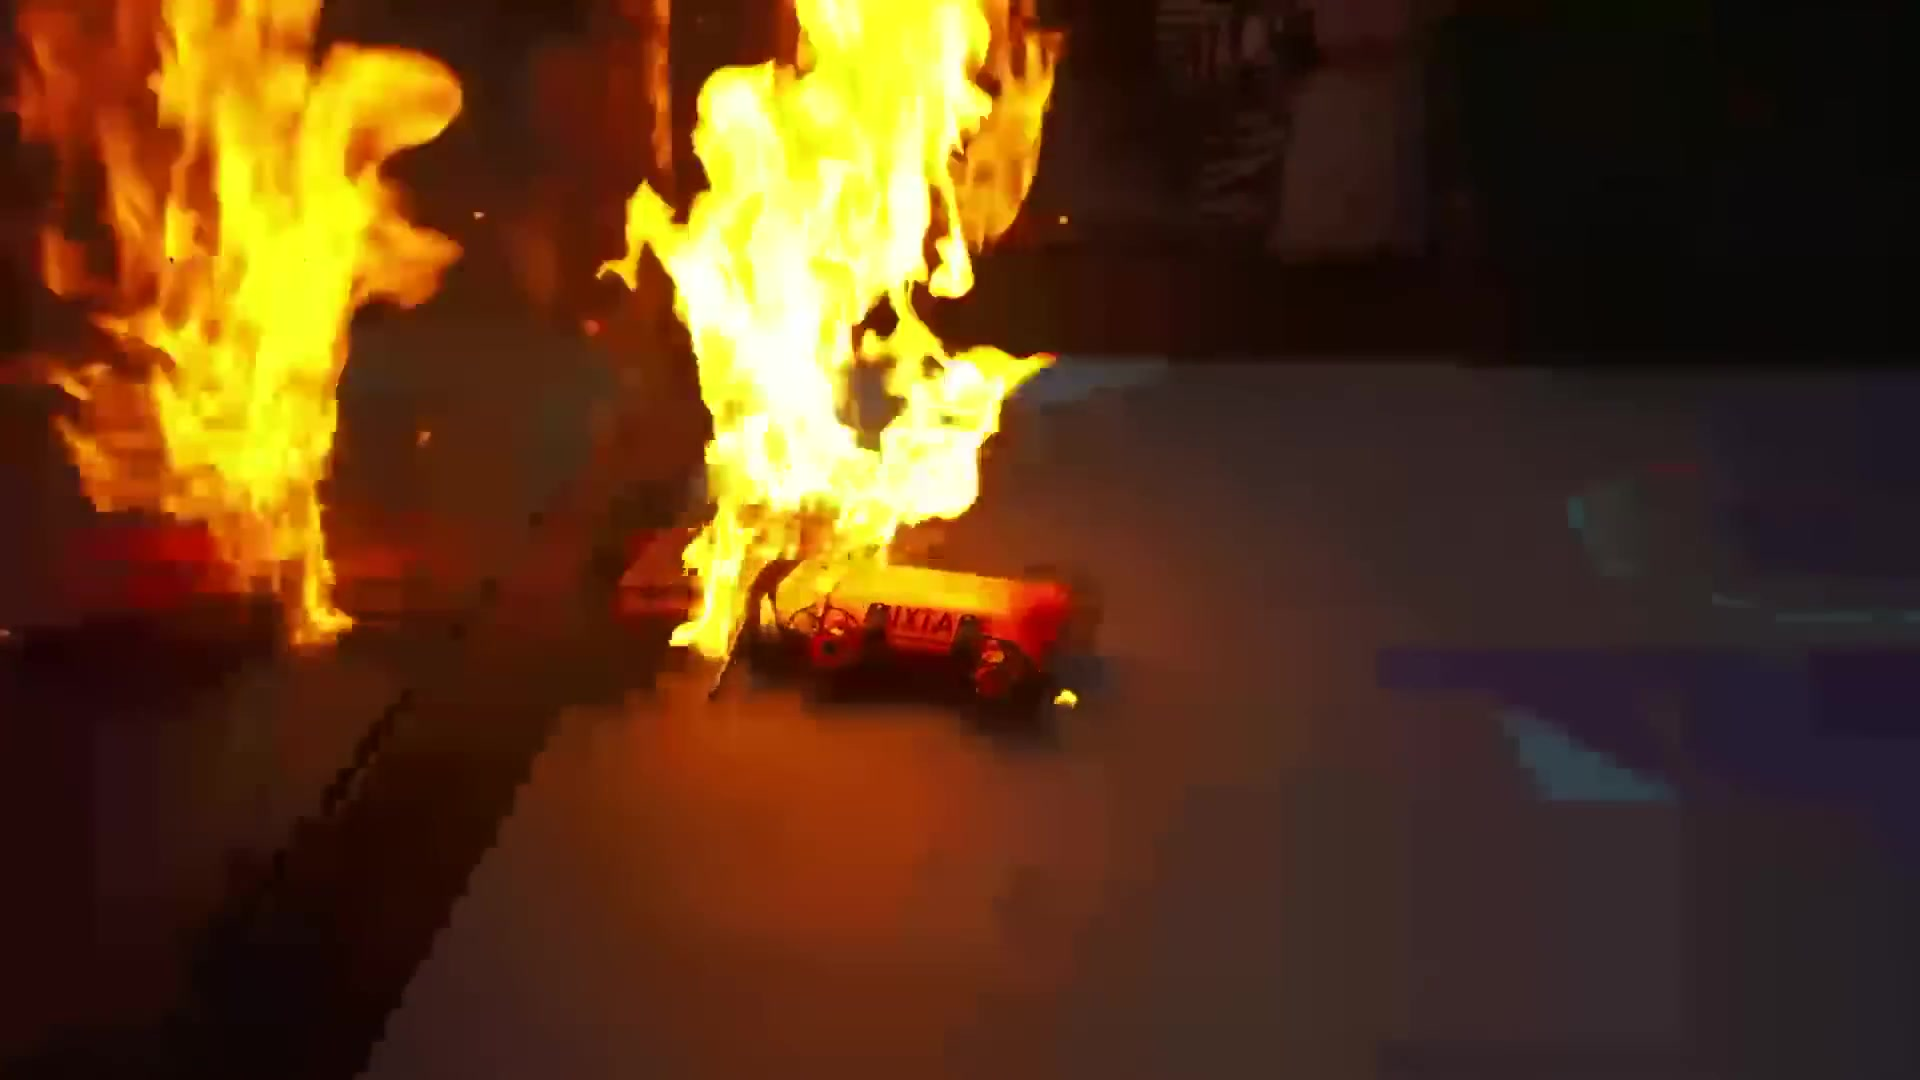combatbot: (779, 543, 1081, 717), (607, 495, 757, 640)
